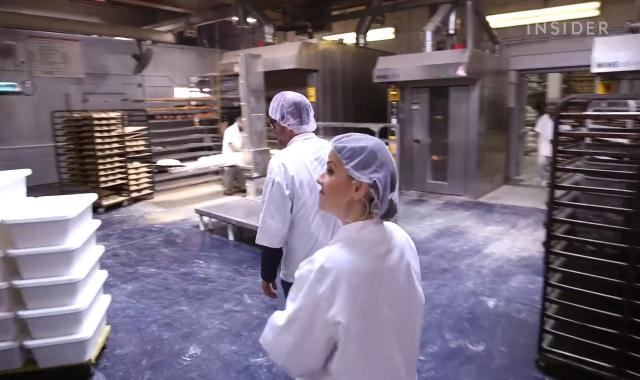hairnet: (331, 128, 402, 219), (266, 90, 316, 134)
